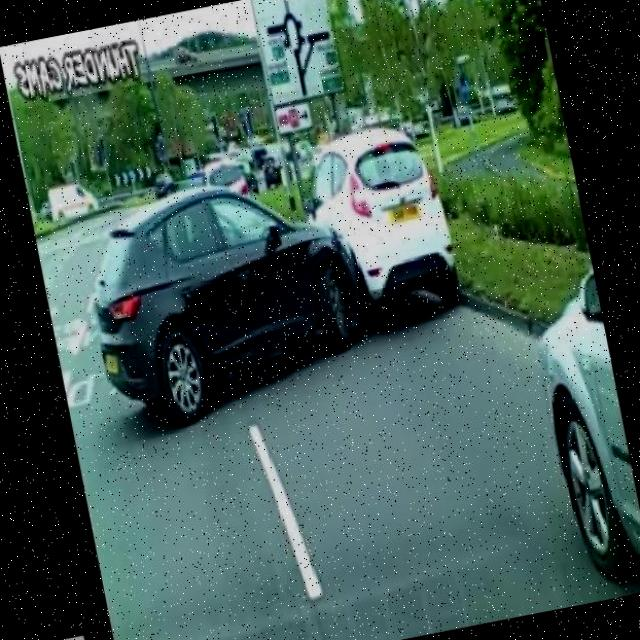accident: (67, 117, 475, 436)
